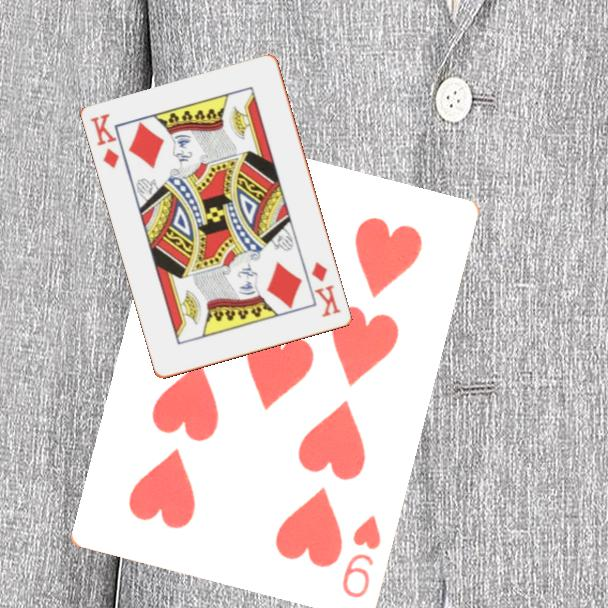d13: (308, 259, 344, 320), (87, 110, 122, 172)
h09: (338, 510, 384, 600)
